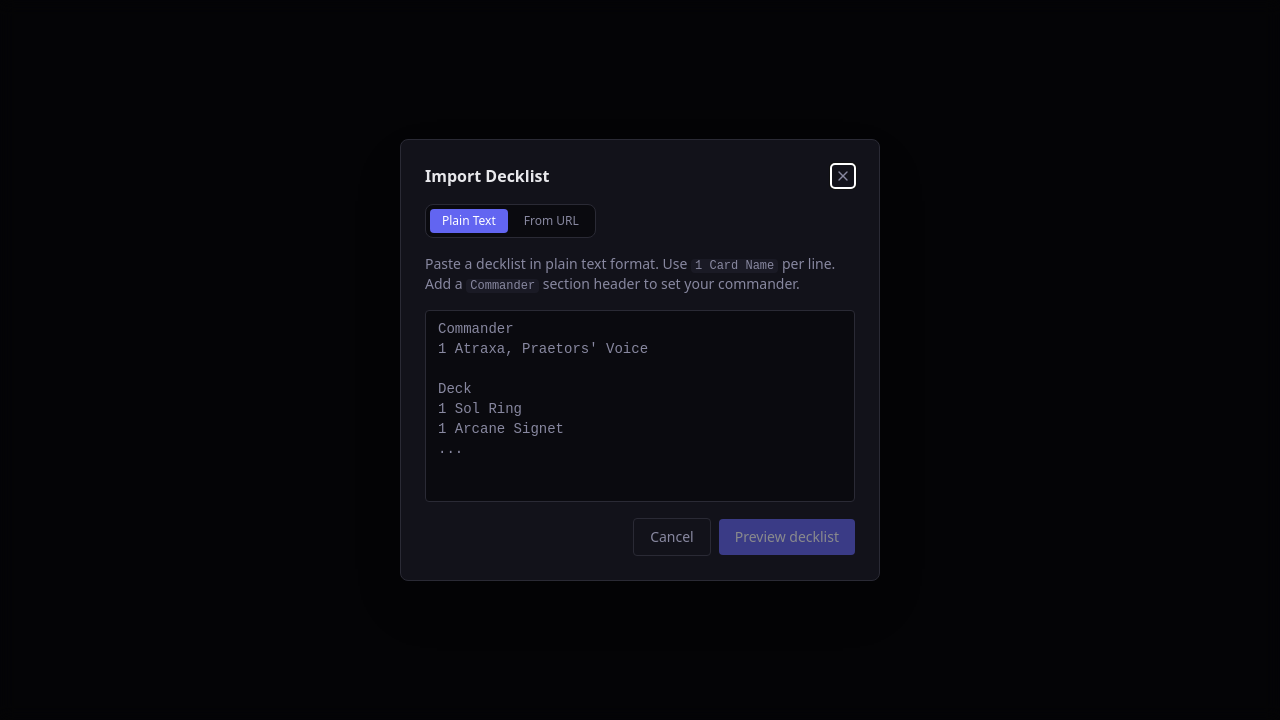
Test: discards a stale preview when the pasted list changes
Replace the text in the text box with placeholder "Atraxa, Praetors' Voice" with "1 Sol Ring": (640, 406) [425,310,855,502]
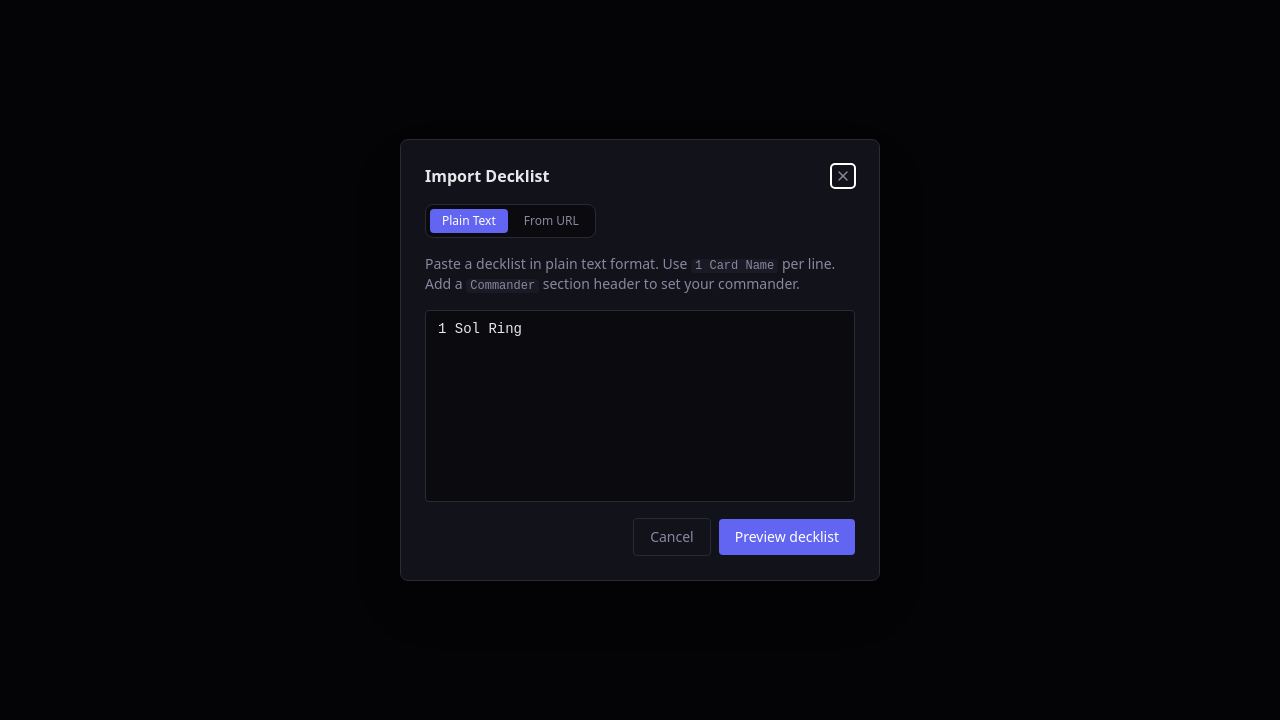
Click the button "Preview decklist": (787, 537) [719,519,855,555]
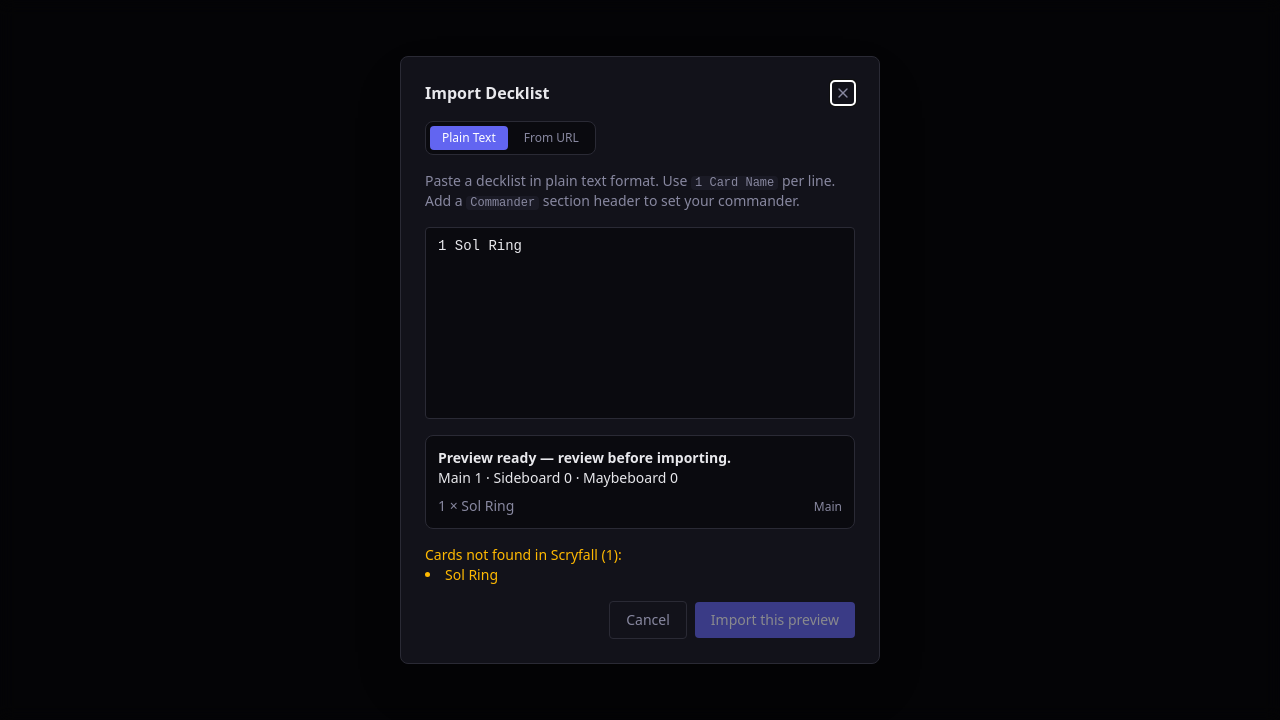
Result: the button "Import this preview" is shown at [695,602,855,638]
Replace the text in the text box with placeholder "Atraxa, Praetors' Voice" with "1 Arcane Signet": (640, 323) [425,227,855,419]
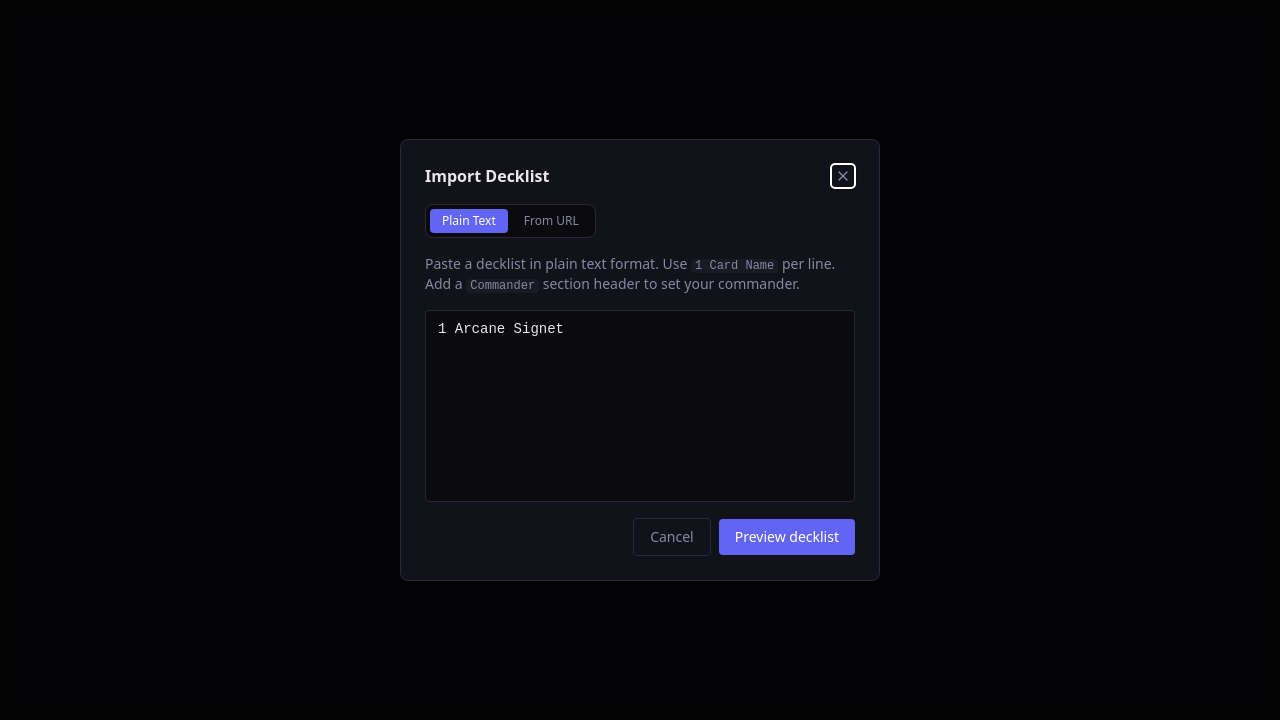
Result: the button "Import this preview" is gone
Result: the message "Cards not found in Scryfall (1): Sol Ring" is gone
Result: the button "Preview decklist" is shown at [719,519,855,555]
